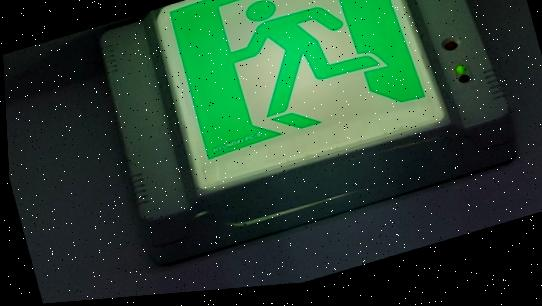emergency_exit: (4, 1, 539, 301), (97, 0, 518, 263), (152, 0, 452, 195)
